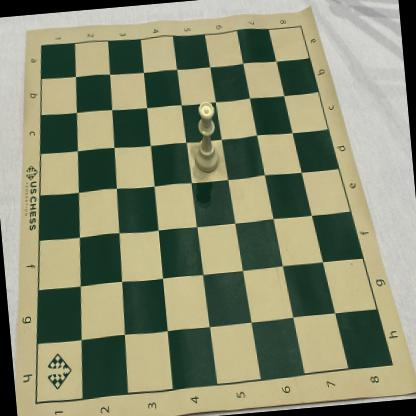queen: (190, 100, 222, 174)
